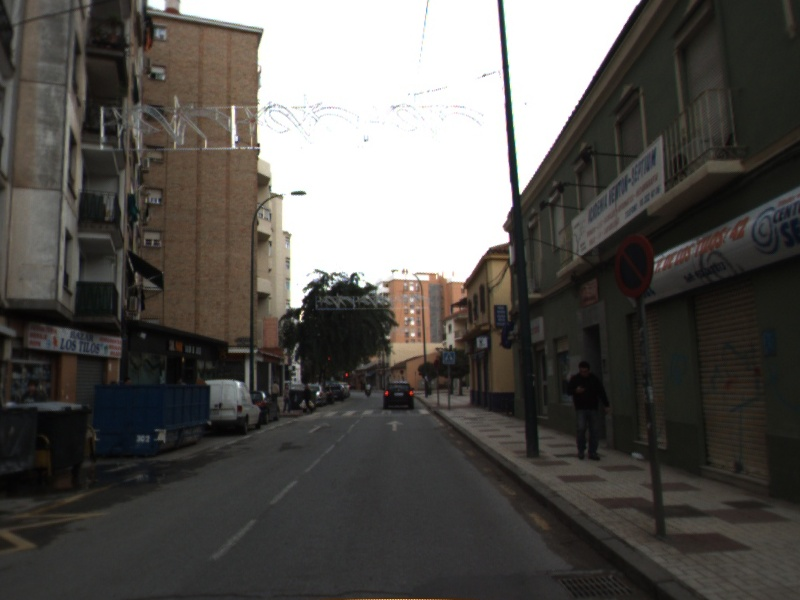STRAIGHT: (305, 420, 333, 435), (383, 418, 406, 433)
